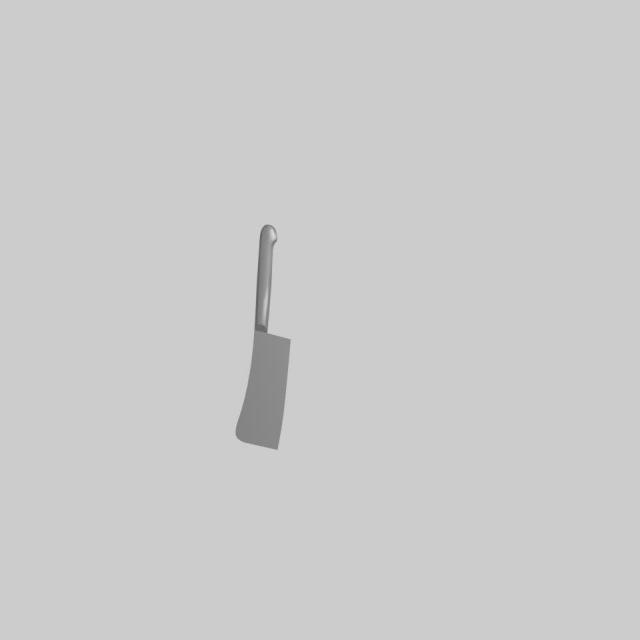knife: (255, 225, 277, 333)
